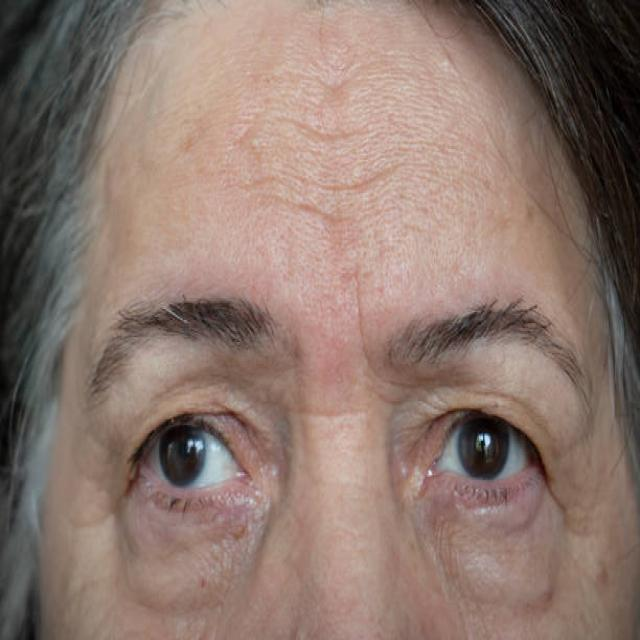Dry-Skin: (406, 61, 614, 295), (253, 427, 423, 640), (130, 68, 260, 289), (253, 61, 354, 340), (470, 496, 585, 640), (109, 554, 250, 608)
